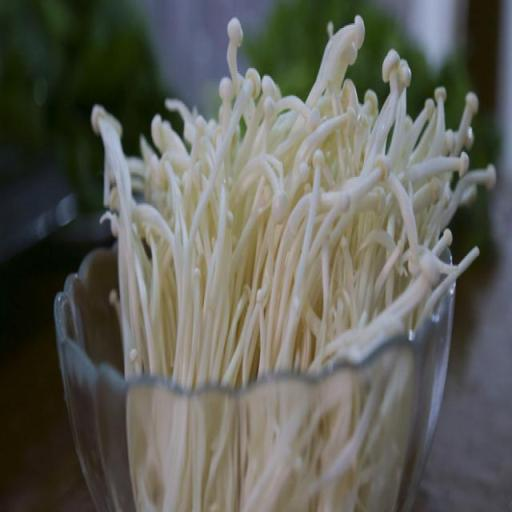Enoki Mushroom: (95, 13, 496, 512)
